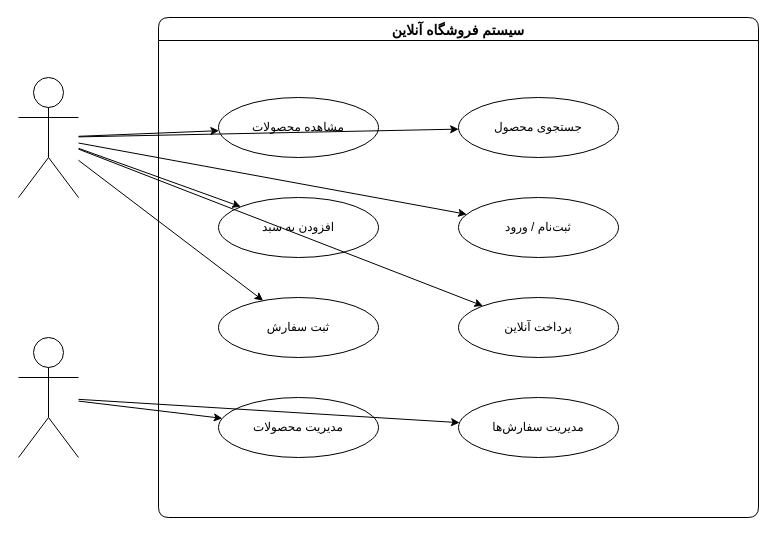
Image size: 776x535. Some labels were removed from this diagram. The centre of each missing label's shape, as x and y in pixels:
"مدیر سیستم" goes at (x=48, y=397).
"مشتری" goes at (x=48, y=137).
